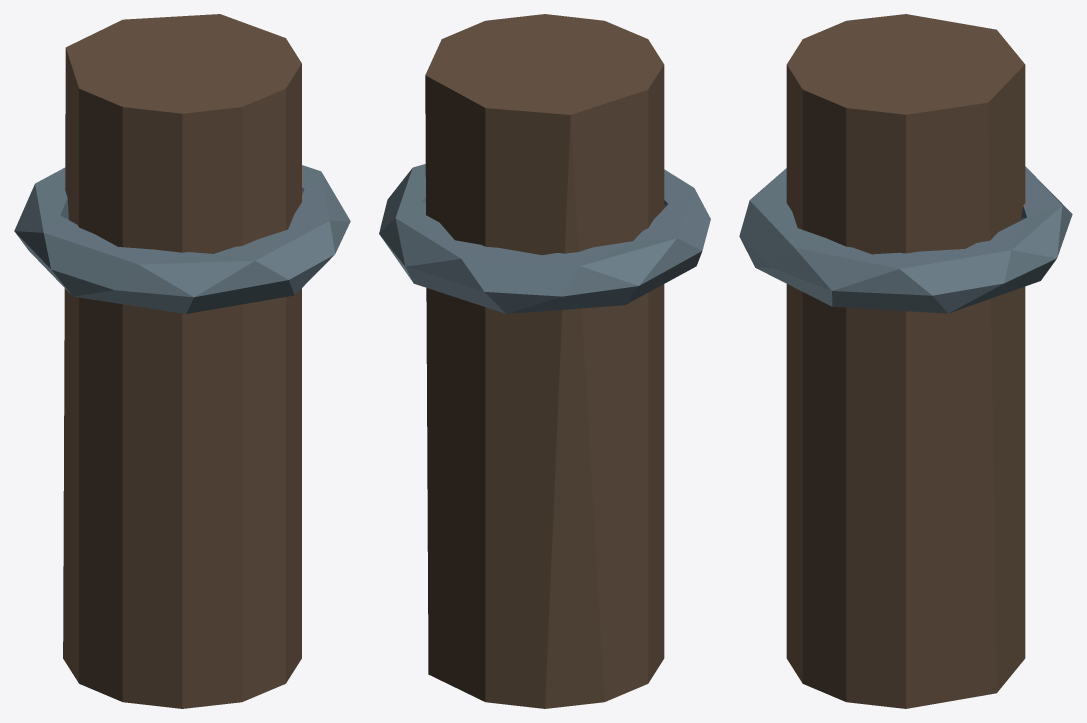
Rendered from harbor-mooring-post.lod1.glb.
The picture shows the model from 3 angles, left to right: view 1: azimuth 30°, elevation 25°; view 2: azimuth 150°, elevation 25°; view 3: azimuth 270°, elevation 25°; orthographic projection.
Visible parts, largest first — view 1: harbor-mooring-post__body; view 2: harbor-mooring-post__body; view 3: harbor-mooring-post__body.
Part boxes in pixels (<box>): harbor-mooring-post__body: <box>14,14,350,708</box>; harbor-mooring-post__body: <box>379,14,710,708</box>; harbor-mooring-post__body: <box>739,14,1072,708</box>.
Size of the model in its own units: 0.5592 by 1.1 by 0.5592.
